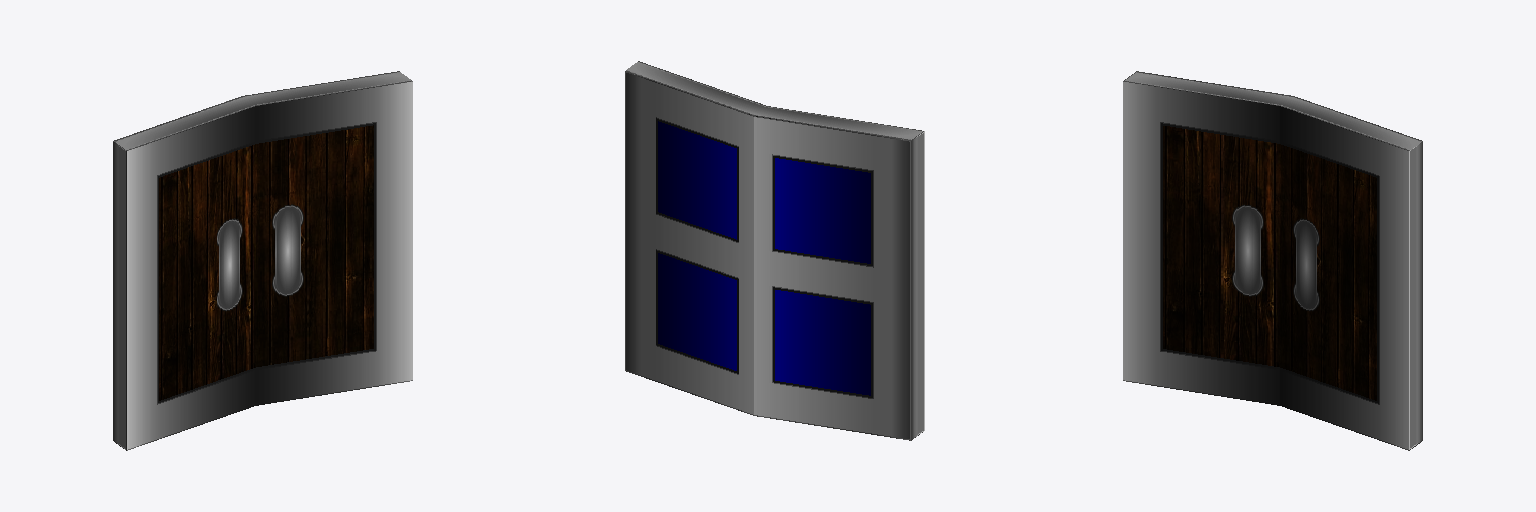
3 renders of one model, left to right at view 1: azimuth 30°, elevation 25°; view 2: azimuth 150°, elevation 25°; view 3: azimuth 330°, elevation 25°, orthographic.
Visible parts, largest first — view 1: shield; view 2: shield; view 3: shield.
Part boxes in pixels (left/top/right/bottom): shield: left=113, top=71, right=412, bottom=450; shield: left=625, top=61, right=924, bottom=440; shield: left=1123, top=71, right=1422, bottom=450.
Size of the model in its own units: 3 by 3 by 0.5.
1 materials, 1 textured.